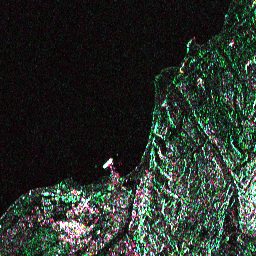ship: (100, 155, 114, 170)
